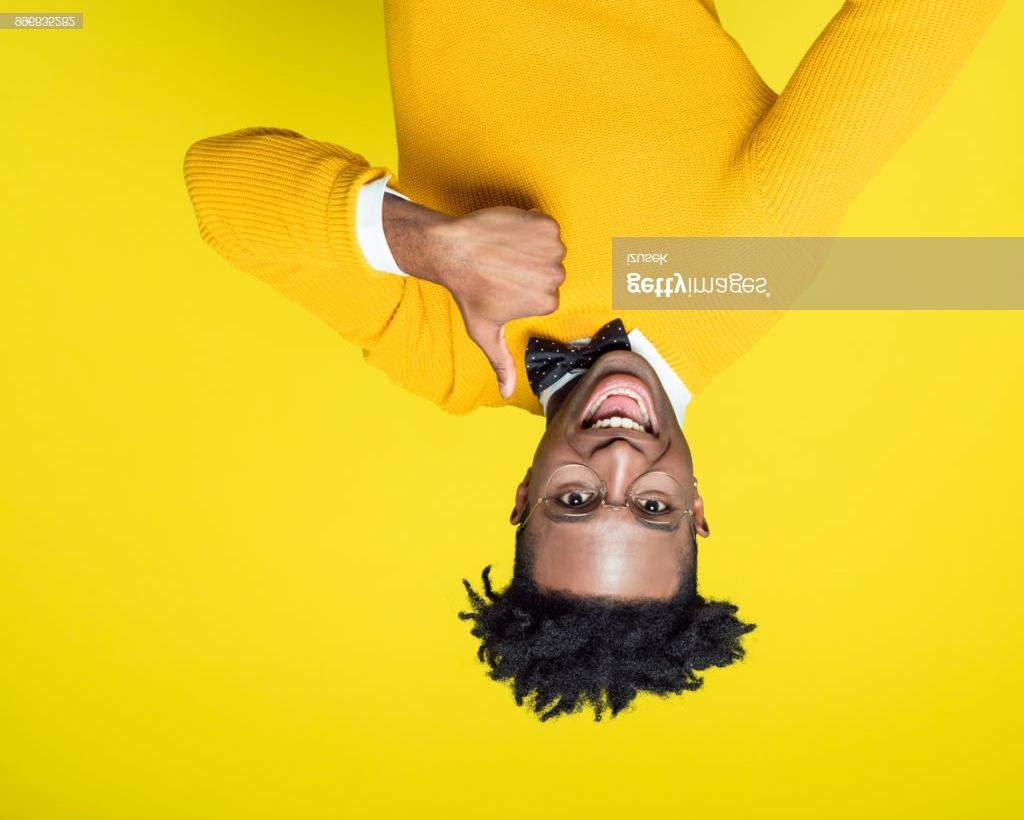thumbsdown: (474, 207, 565, 399)
